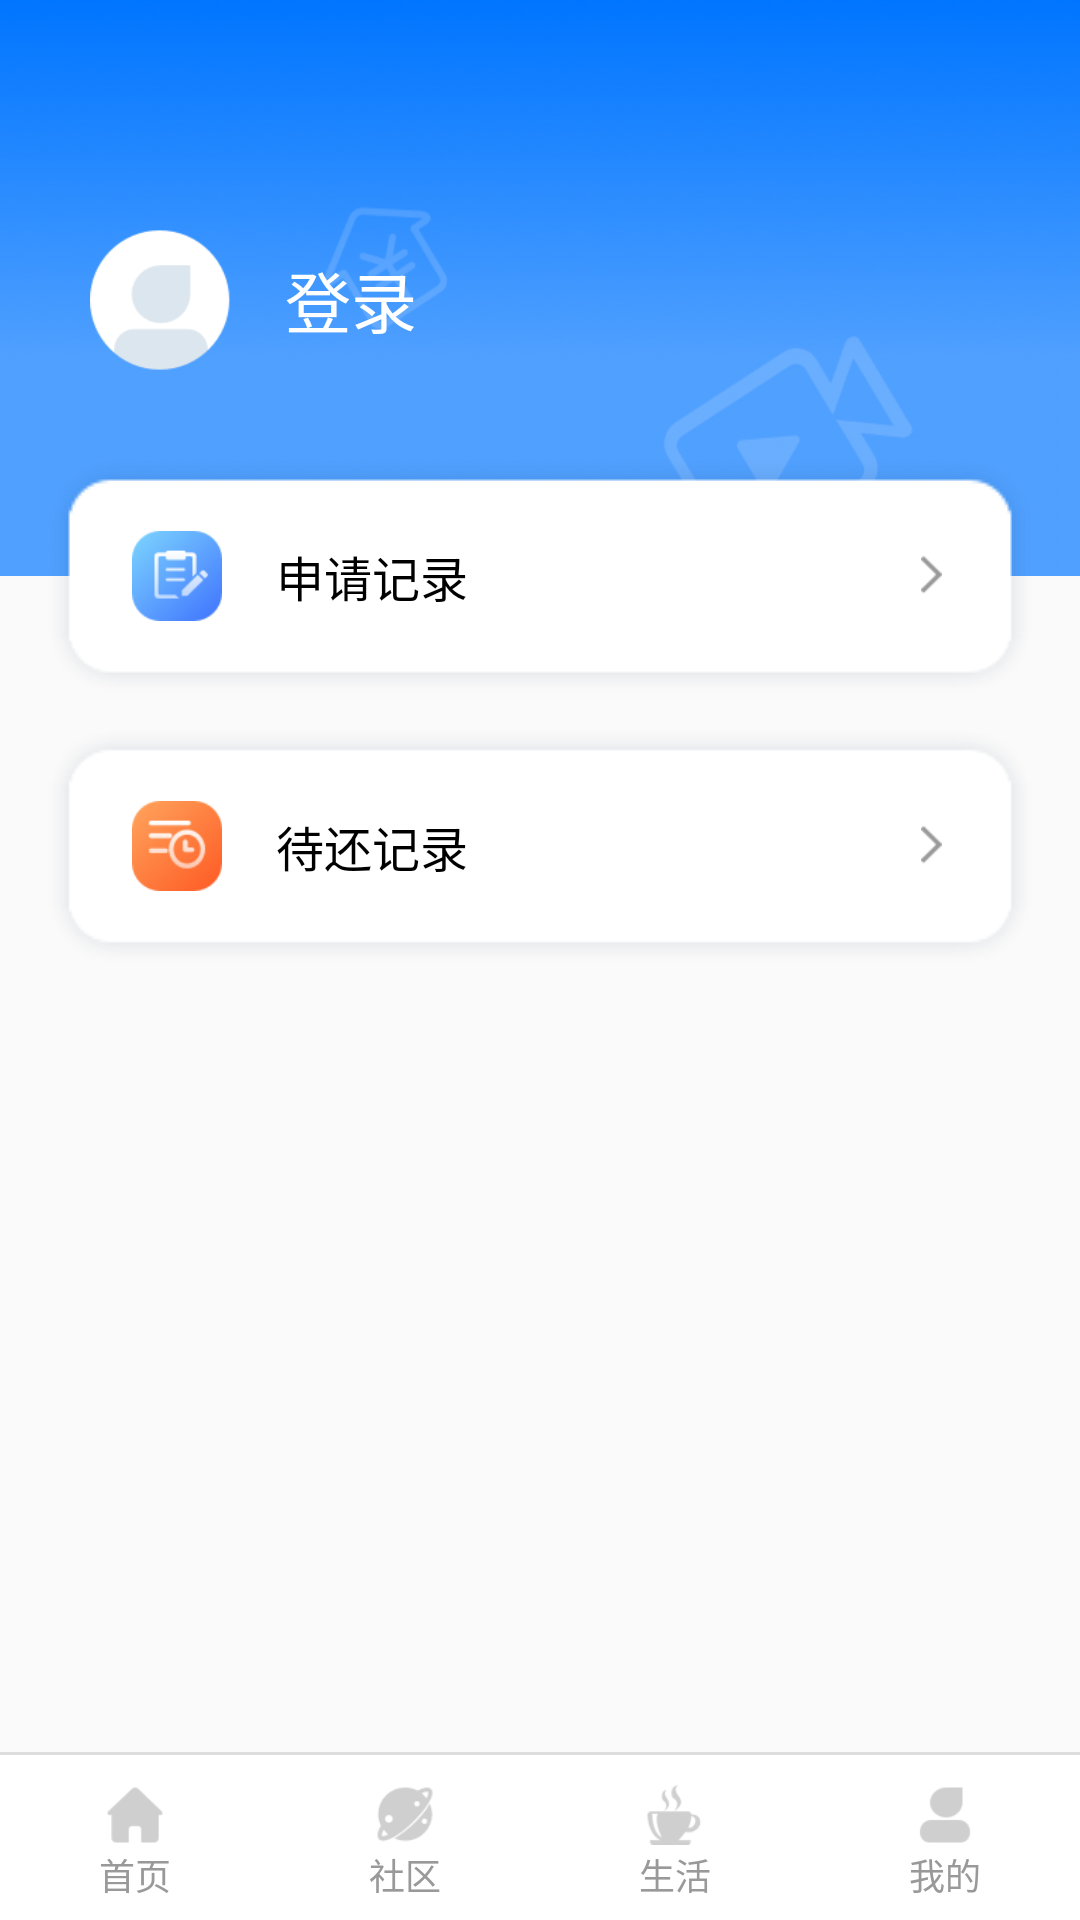

Named icons in this screenshot (1080px×1920px) and their bounding boxes, (x1=x1, y1=y1, x2=x2, y2=y2):
apply: (x1=132, y1=531, x2=222, y2=621)
head unlogin: (x1=90, y1=225, x2=240, y2=370)
